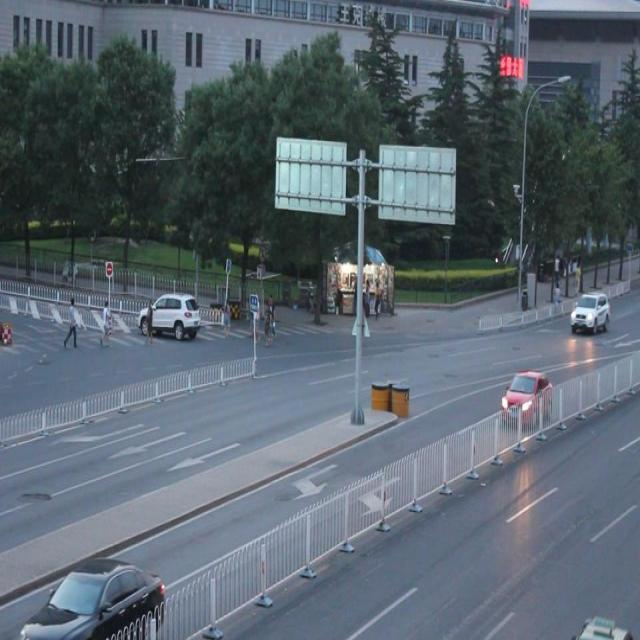car: (21, 557, 163, 640), (499, 370, 552, 424), (139, 292, 201, 338), (568, 289, 609, 334)
